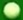white: (0, 0, 23, 20)
